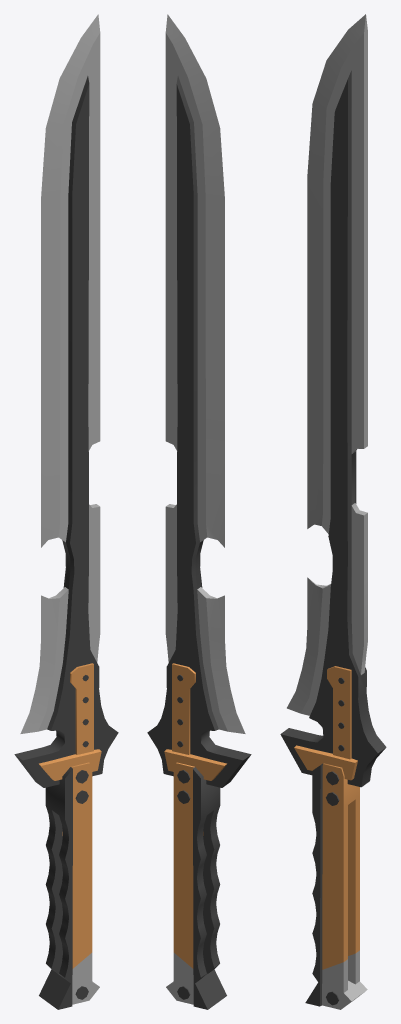
File: PunkSword.fbx
The picture shows the model from 3 angles, left to right: view 1: azimuth 30°, elevation 25°; view 2: azimuth 150°, elevation 25°; view 3: azimuth 330°, elevation 25°; orthographic projection.
Visible parts, largest first — view 1: PunkSword; view 2: PunkSword; view 3: PunkSword.
Boxes of the visible parts, x1,y1,x2,y2 form: PunkSword: [14, 14, 118, 1009]; PunkSword: [147, 14, 251, 1009]; PunkSword: [280, 14, 386, 1009].
Size of the model in its own units: 18.22 by 177 by 6.36.
